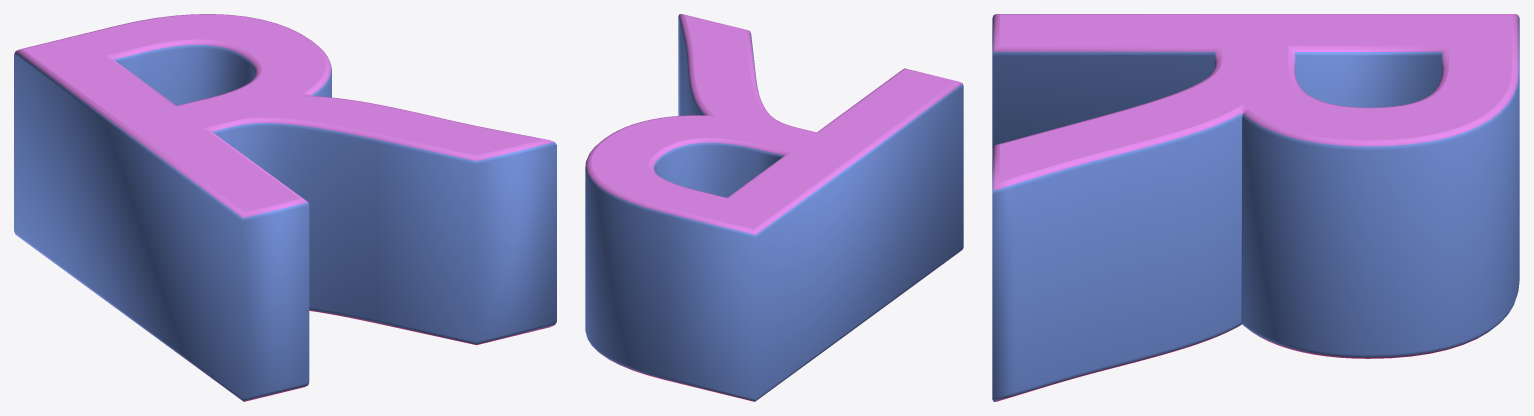
The model's file is letter_R.fbx.
The picture shows the model from 3 angles, left to right: view 1: azimuth 30°, elevation 25°; view 2: azimuth 150°, elevation 25°; view 3: azimuth 270°, elevation 25°; orthographic projection. The views are drawn at different scales.
Visible parts, largest first — view 1: Letter_R; view 2: Letter_R; view 3: Letter_R.
Part boxes in pixels (x1,y1,x2,y2): Letter_R: [14, 14, 556, 401]; Letter_R: [585, 14, 963, 401]; Letter_R: [992, 14, 1519, 401].
Bounding box in the file's own units: 55.66 × 32 × 70.2.
